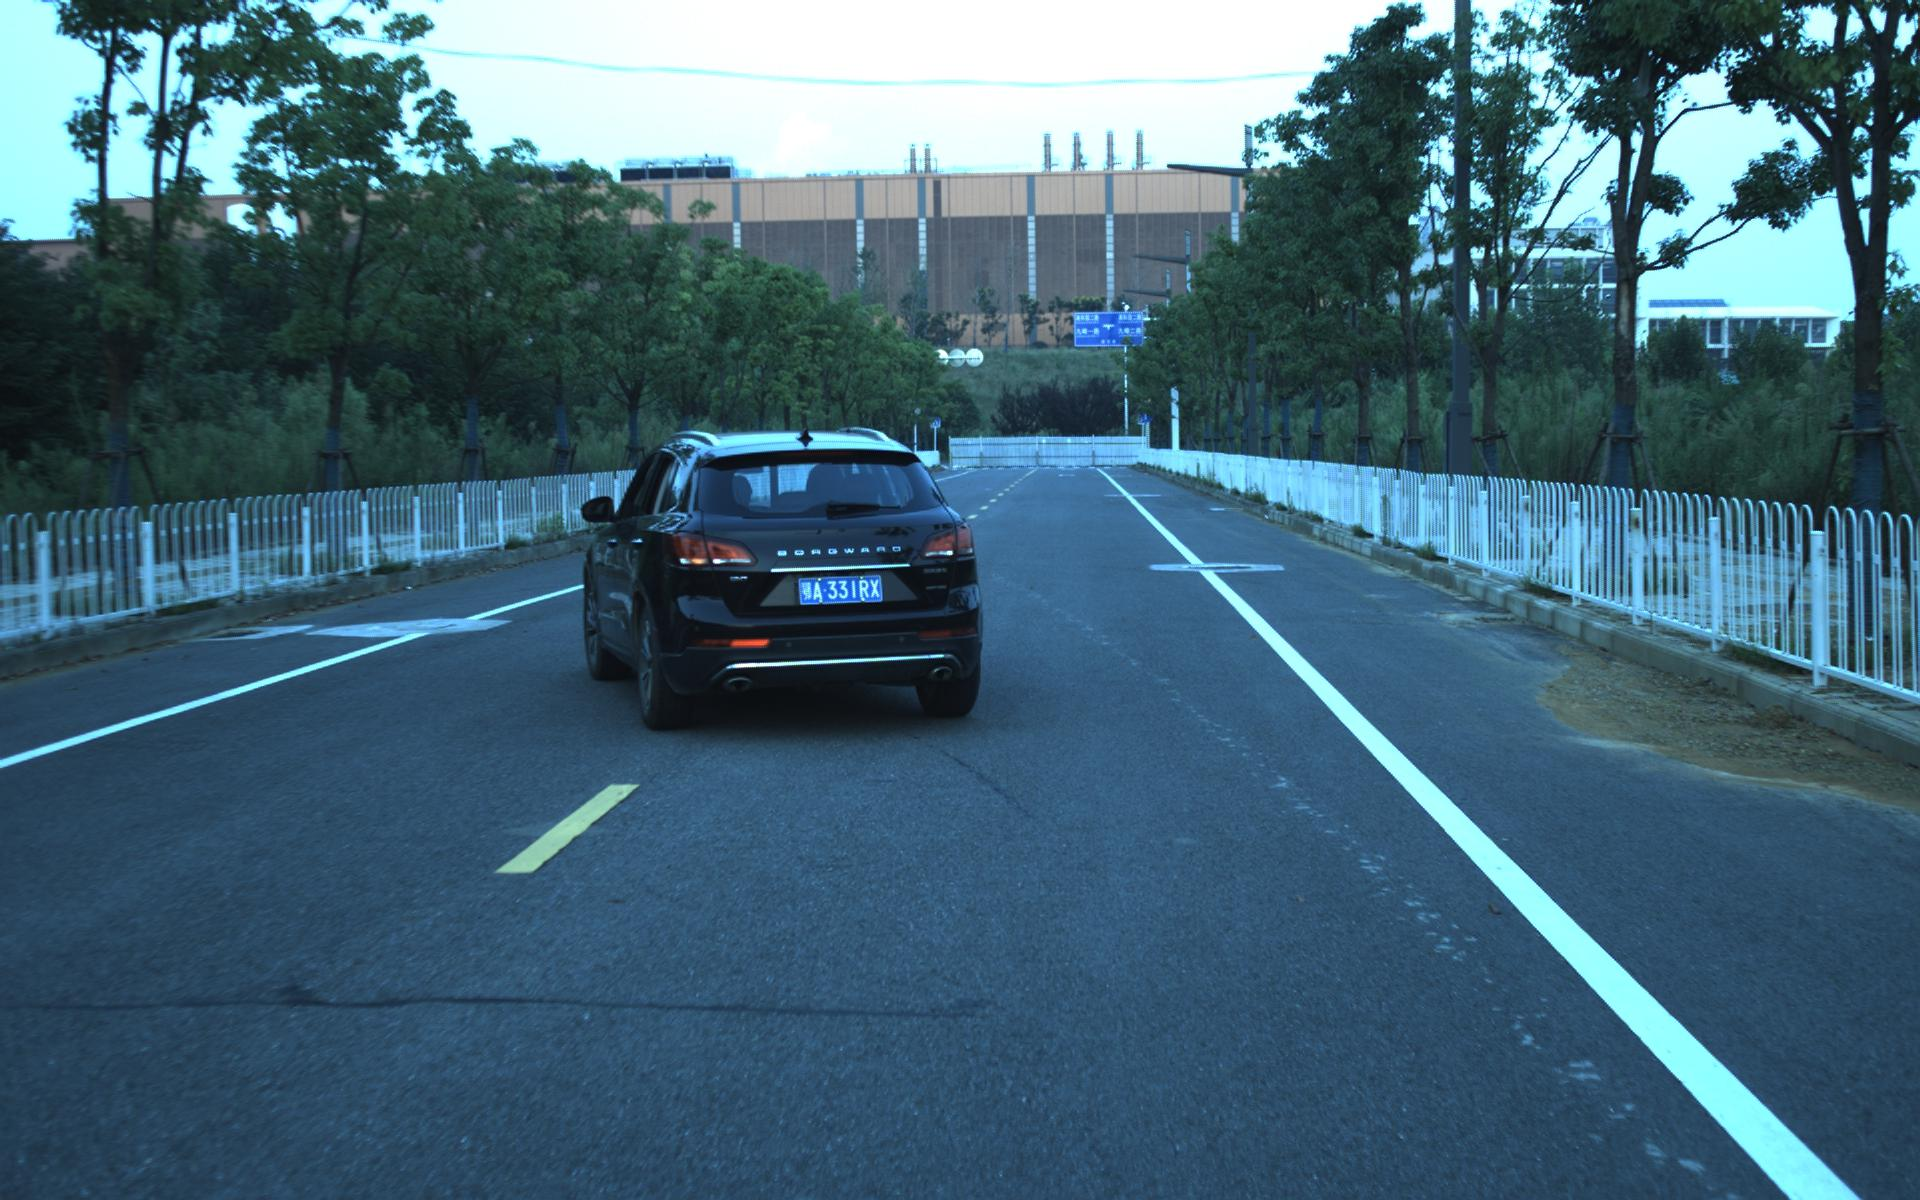Car: (571, 418, 992, 741)
